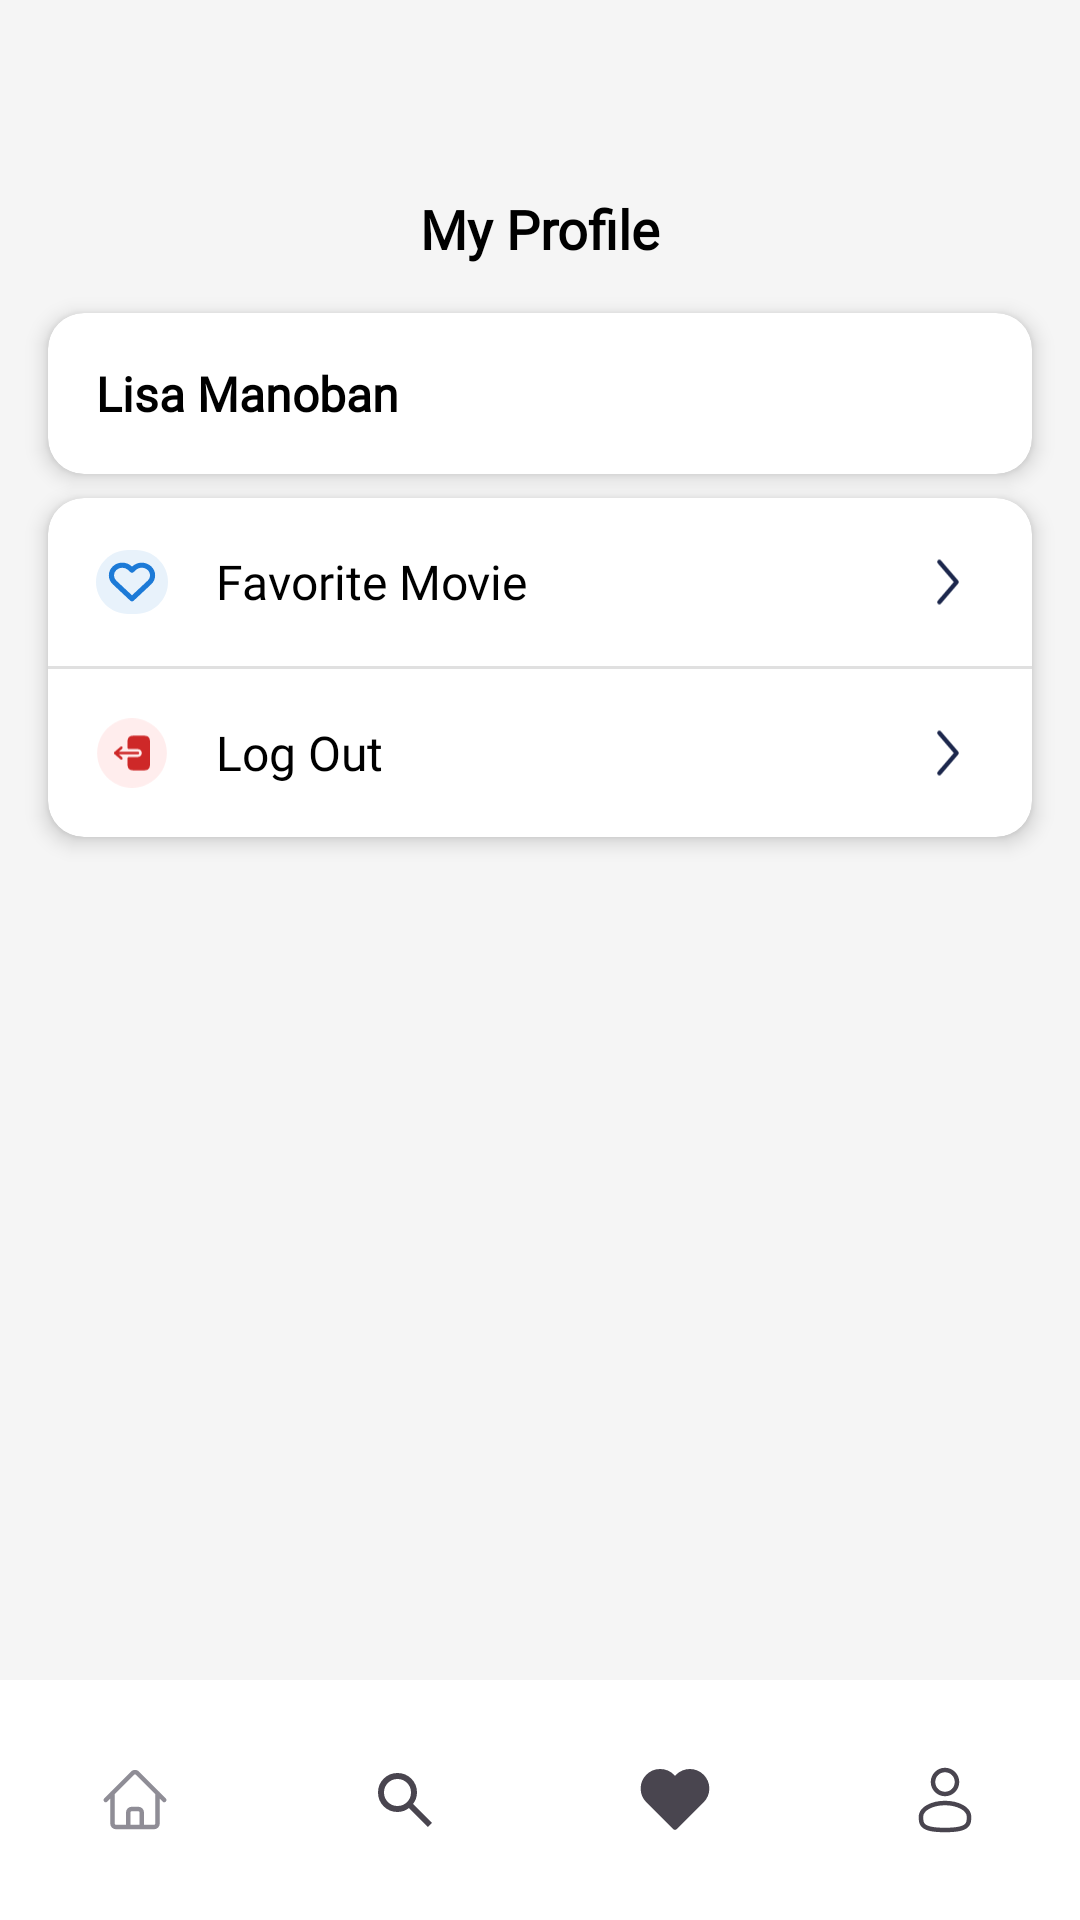

Where to tap for icons on this 1080×1920 app screen, as point (x, y):
arrow right: point (948, 582), point (948, 753)
